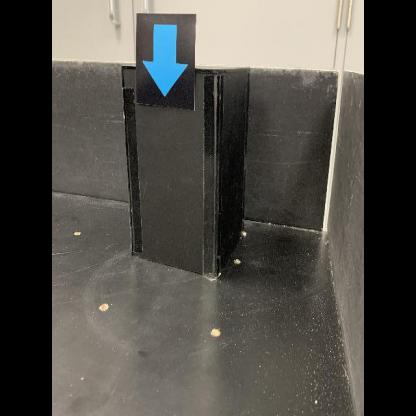down: (135, 11, 198, 115)
